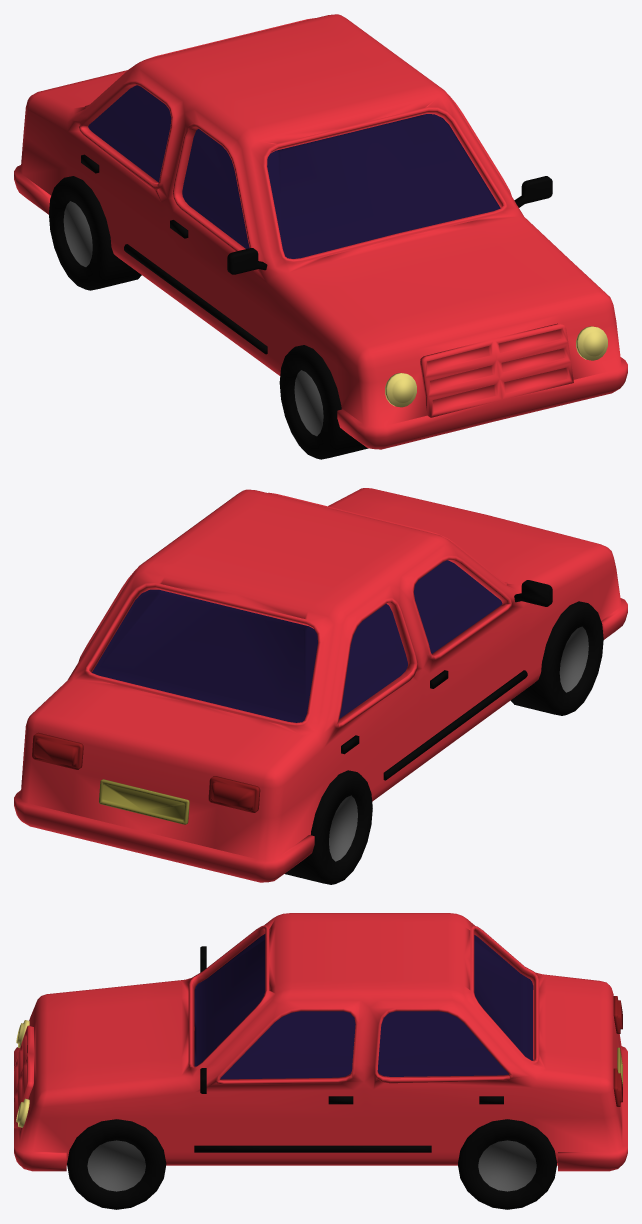
File: Car2.fbx
The picture shows the model from 3 angles, top to bottom: view 1: azimuth 30°, elevation 25°; view 2: azimuth 150°, elevation 25°; view 3: azimuth 270°, elevation 25°; orthographic projection. The views are drawn at different scales.
Visible parts, largest first — view 1: Car.001; view 2: Car.001; view 3: Car.001.
Part boxes in pixels (x1,y1,x2,y2): Car.001: (14,14,627,459); Car.001: (14,488,627,884); Car.001: (14,913,627,1209).
Size of the model in its own units: 128 by 91.42 by 249.
